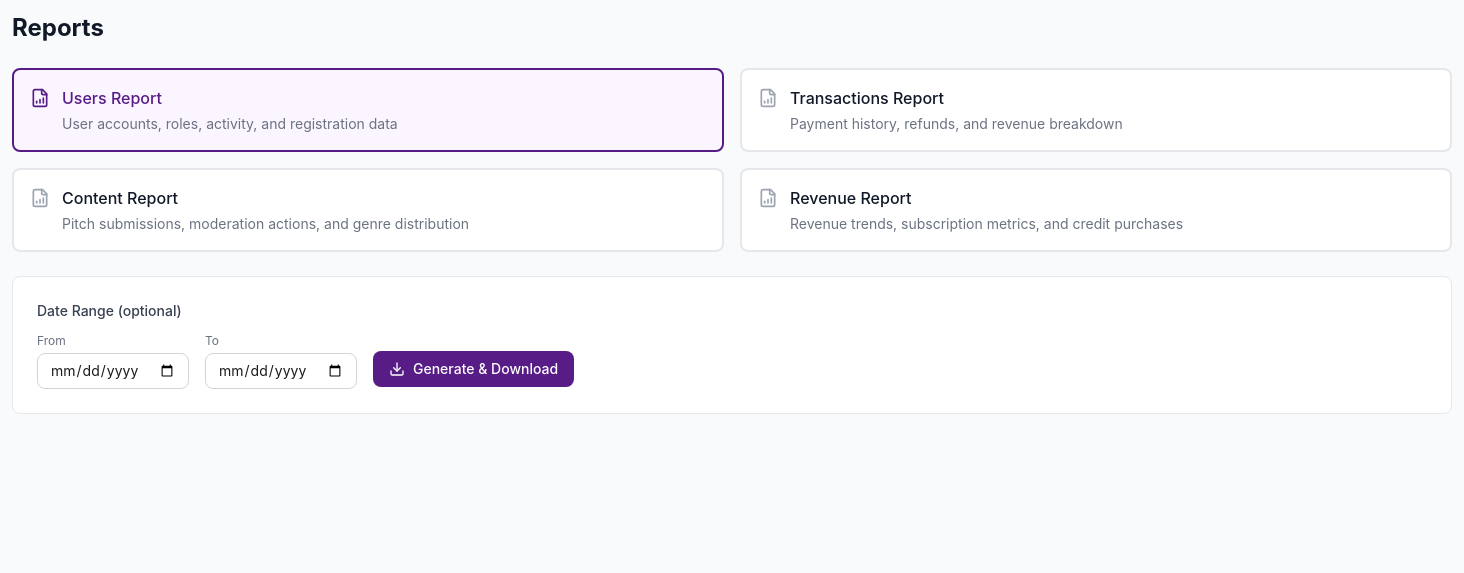
Scenario: AdminReports › Download History › shows Recent Downloads after a successful generate
Click the button "Generate & Download": click(474, 369) [373,351,574,387]
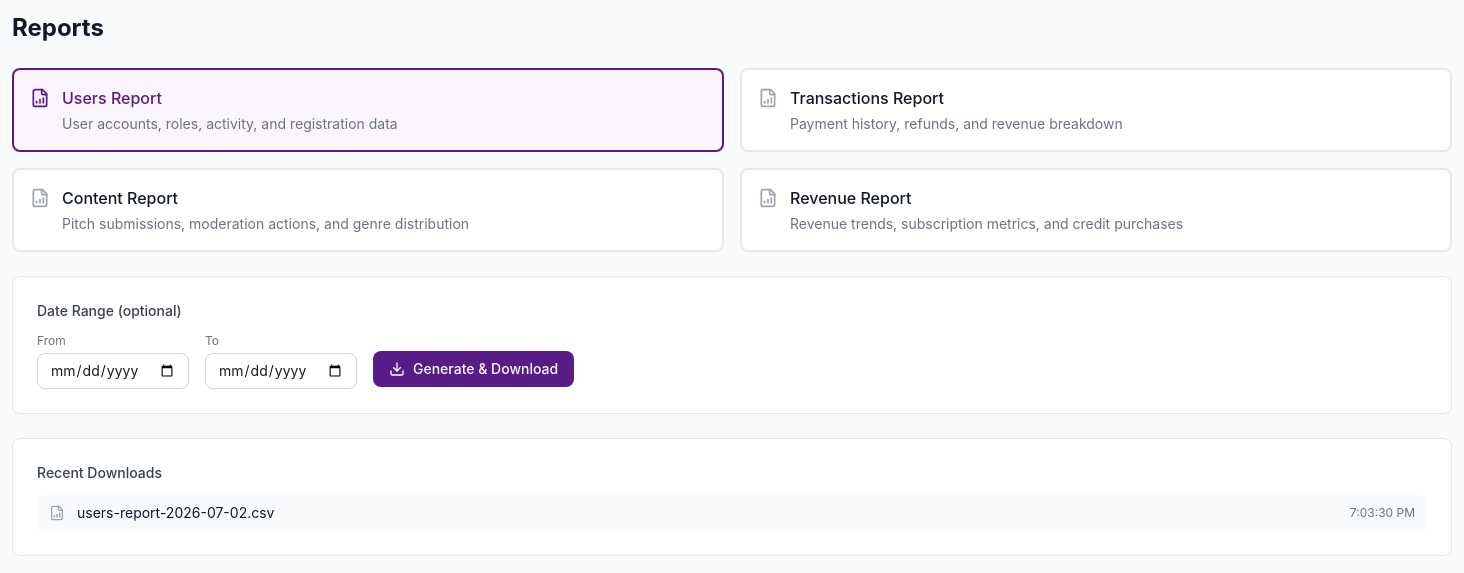
expect the heading "Recent Downloads" is shown: met, box [37,464,162,481]
